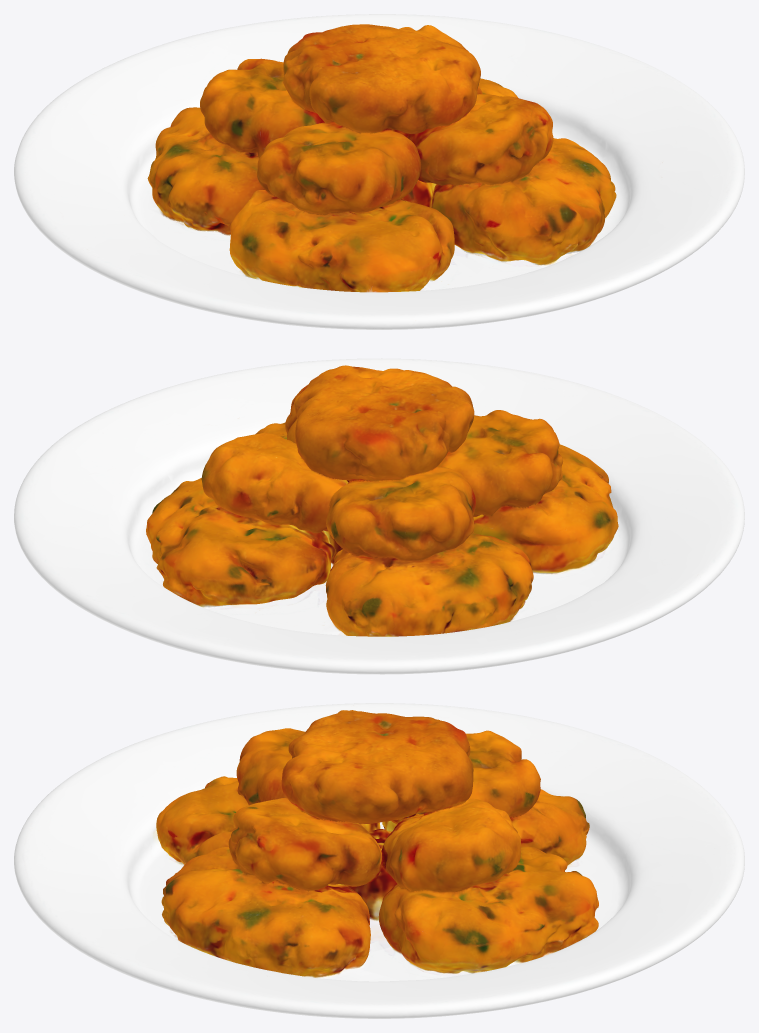
Rendered from Meshy_AI_gateau_piment_0722040138_image-to-3d-texture-v1.glb.
3 views of the same model, one above another, from view 1: azimuth 30°, elevation 25°; view 2: azimuth 150°, elevation 25°; view 3: azimuth 270°, elevation 25° (orthographic).
Size of the model in its own units: 1.9 by 0.4783 by 1.9.
Materials: 1 (1 with a texture image).
